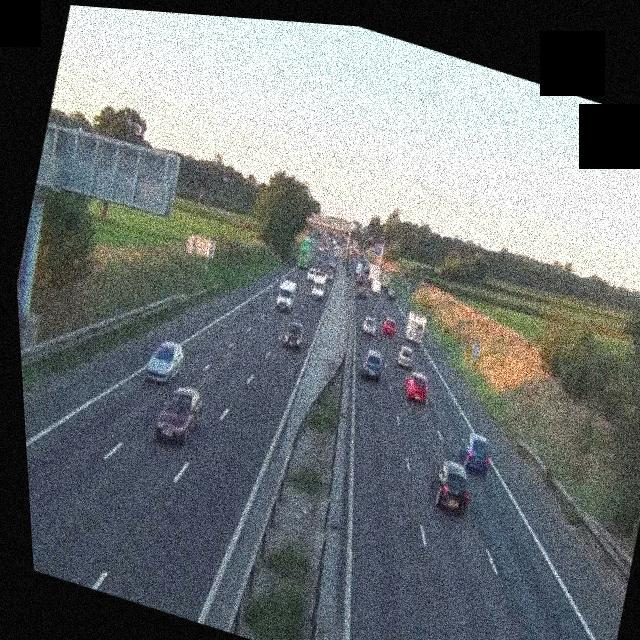car: (149, 377, 208, 451), (425, 455, 477, 517), (141, 335, 190, 389), (451, 427, 496, 479), (401, 369, 432, 405), (358, 346, 387, 382), (279, 317, 307, 351), (395, 343, 418, 371), (308, 275, 328, 302), (373, 634, 458, 640), (379, 314, 397, 339), (361, 313, 379, 338), (306, 266, 320, 283), (356, 285, 370, 300), (323, 269, 335, 285), (327, 260, 338, 273)
truck: (401, 310, 428, 348), (293, 236, 317, 272), (373, 266, 393, 295), (353, 259, 368, 282)
